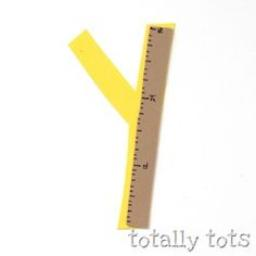s: (238, 231, 252, 251)
y: (63, 18, 181, 228)
